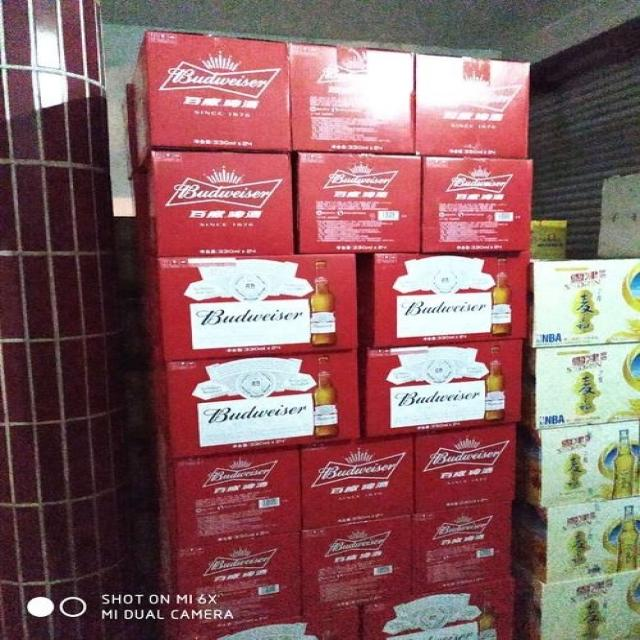box: (136, 255, 358, 361), (146, 351, 359, 460), (131, 32, 292, 169), (129, 151, 296, 257), (356, 252, 531, 349), (356, 338, 524, 438), (154, 525, 302, 631), (156, 448, 303, 547), (289, 42, 414, 155), (294, 154, 421, 254), (413, 55, 532, 157), (300, 435, 419, 529), (512, 497, 639, 585), (300, 515, 415, 611), (514, 420, 639, 508), (419, 157, 533, 252), (523, 344, 639, 431), (412, 500, 514, 596), (359, 579, 515, 639), (532, 260, 639, 347), (413, 425, 515, 515), (145, 600, 362, 639), (512, 572, 639, 638), (528, 220, 564, 261)
